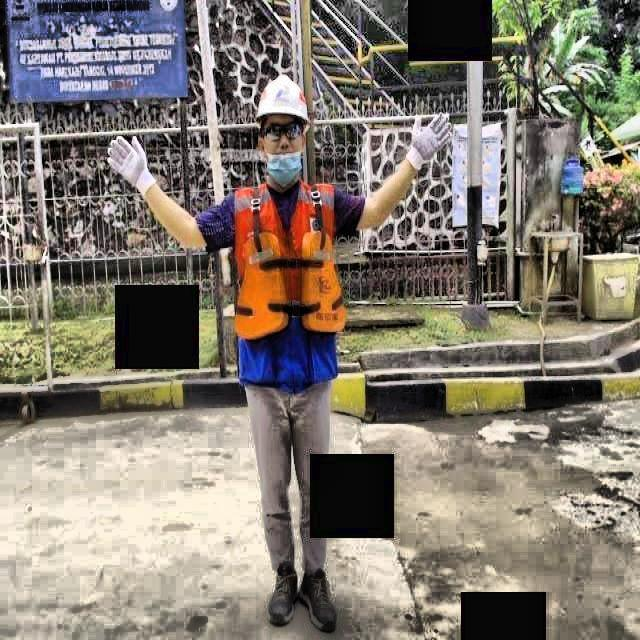safety_helmet: (257, 71, 311, 129)
safety_jacket: (237, 178, 346, 390)
